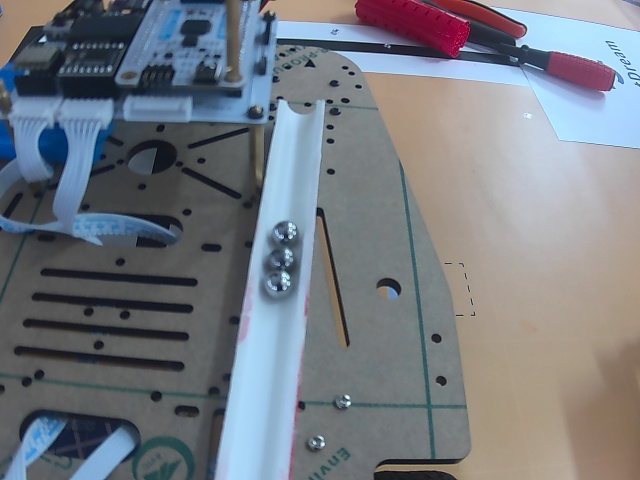steelball: (265, 271, 291, 297), (266, 247, 294, 271), (272, 221, 297, 245)
